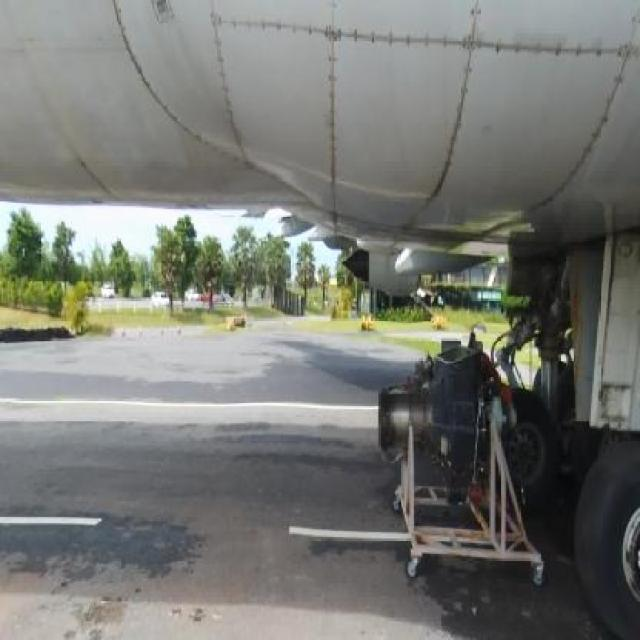Missing-Rivet: (209, 9, 640, 68), (302, 7, 381, 220), (434, 8, 490, 214), (575, 32, 640, 197), (109, 6, 180, 138)
